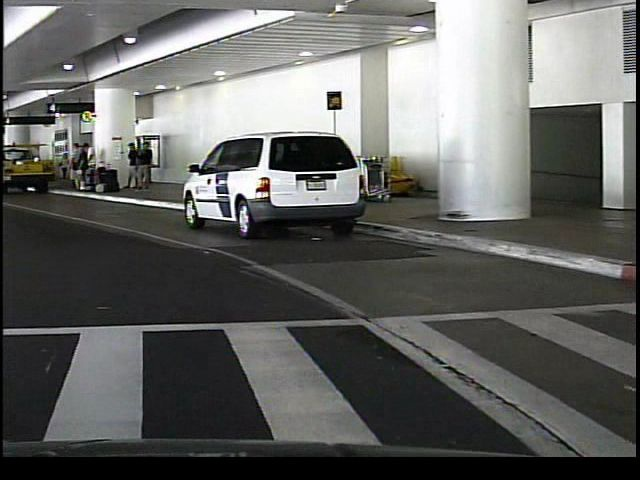person: (137, 139, 153, 190), (65, 139, 79, 191)
